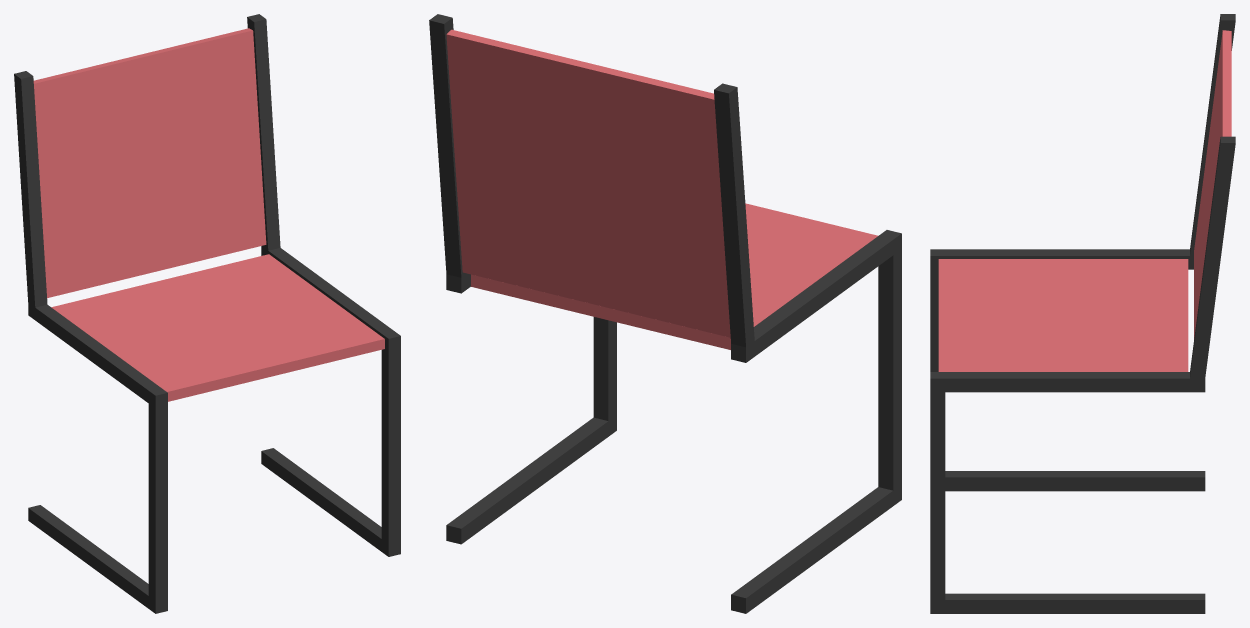
The model's file is Seat2.fbx.
3 renders of one model, left to right at view 1: azimuth 30°, elevation 25°; view 2: azimuth 150°, elevation 25°; view 3: azimuth 270°, elevation 25°, orthographic. The views are drawn at different scales.
Parts seen in each view (by area): view 1: Plane; view 2: Plane; view 3: Plane.
Boxes of the visible parts, bbox=[...] form: Plane: bbox=[14, 14, 400, 613]; Plane: bbox=[429, 14, 901, 613]; Plane: bbox=[930, 14, 1235, 613].
Bounding box in the file's own units: 200 × 340 × 200.
